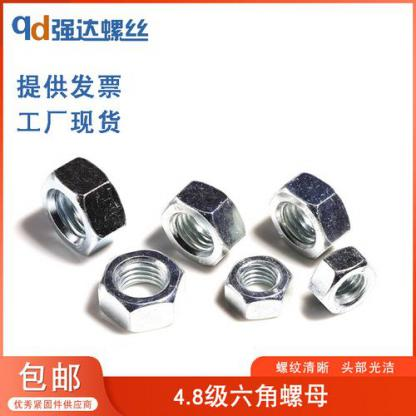FOD: (40, 154, 127, 260), (95, 246, 188, 333), (161, 177, 246, 271), (266, 170, 352, 262), (221, 253, 293, 324), (308, 246, 376, 320)
